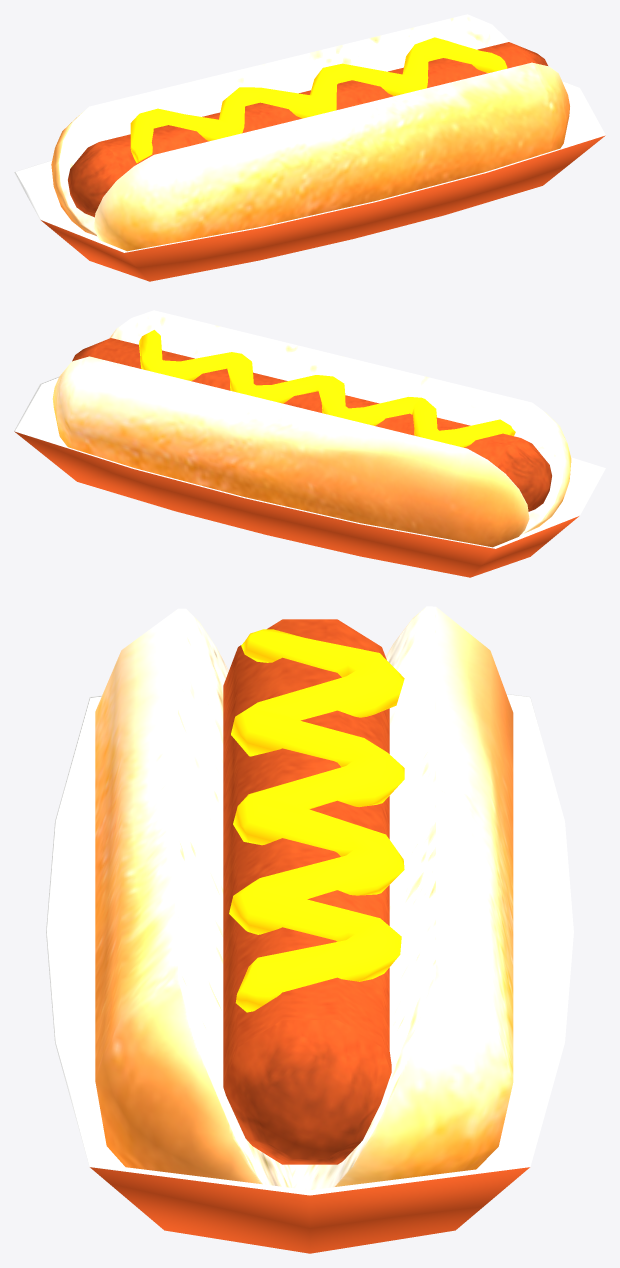
3 renders of one model, top to bottom at view 1: azimuth 30°, elevation 25°; view 2: azimuth 150°, elevation 25°; view 3: azimuth 270°, elevation 25°, orthographic. The views are drawn at different scales.
Visible parts, largest first — view 1: Hotdog; view 2: Hotdog; view 3: Hotdog.
Part boxes in pixels (x1,y1,x2,y2): Hotdog: (14,14,605,281); Hotdog: (14,310,605,577); Hotdog: (46,606,573,1253).
Size of the model in its own units: 397 by 86.79 by 168.
1 material, 1 textured.
